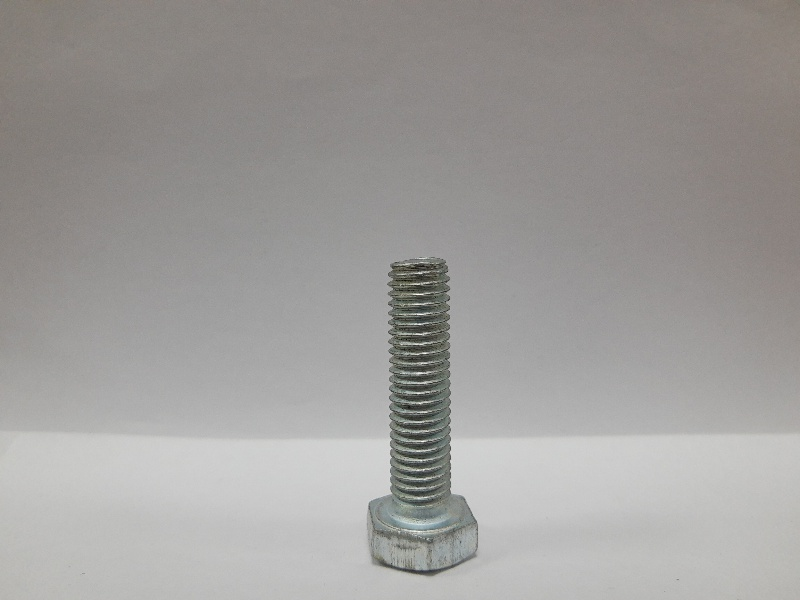pf: (364, 256, 487, 576)
